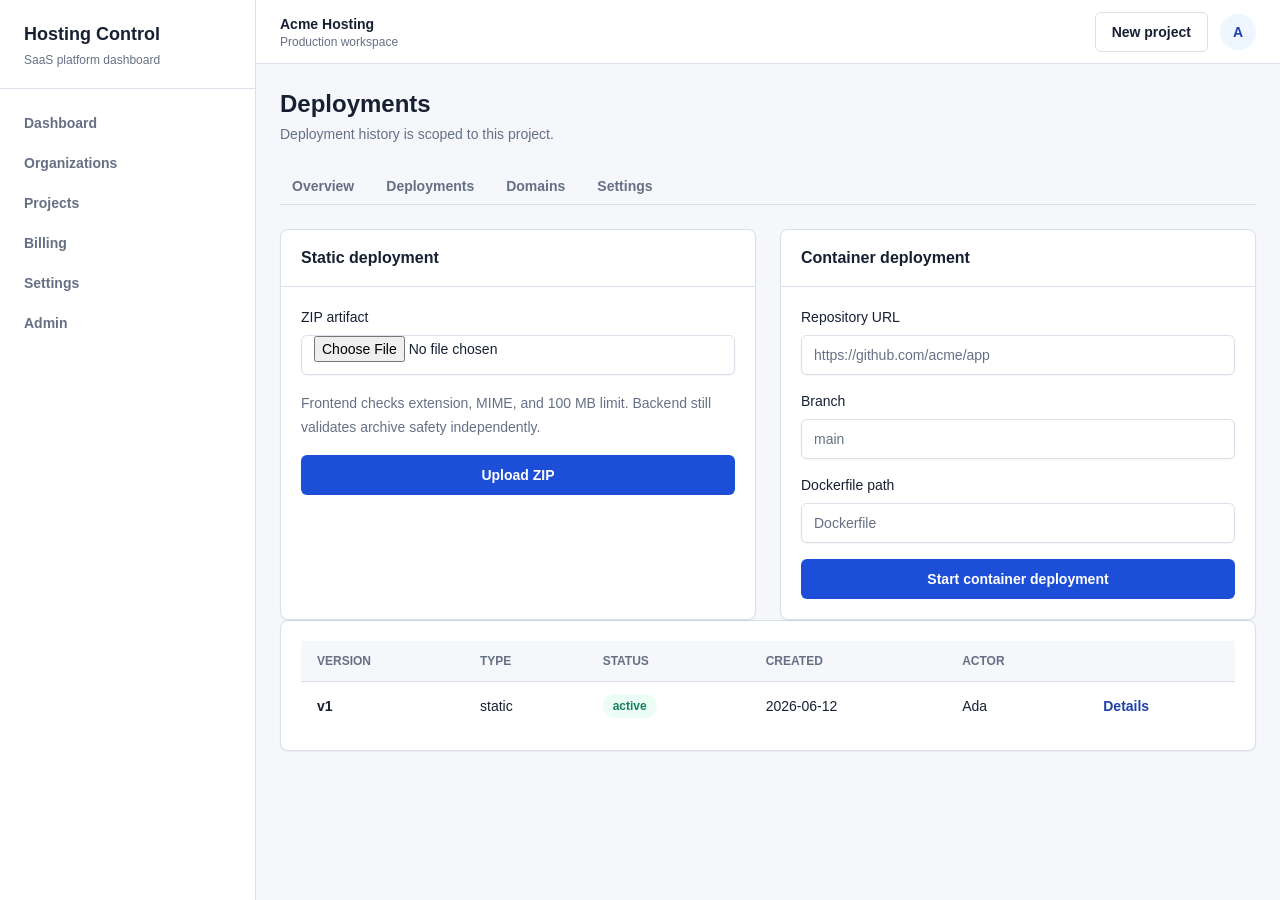
Test case: ProjectDeploymentsPage › requires a file before static upload
Click the button "Upload ZIP": [518, 475] box [301,455,735,495]
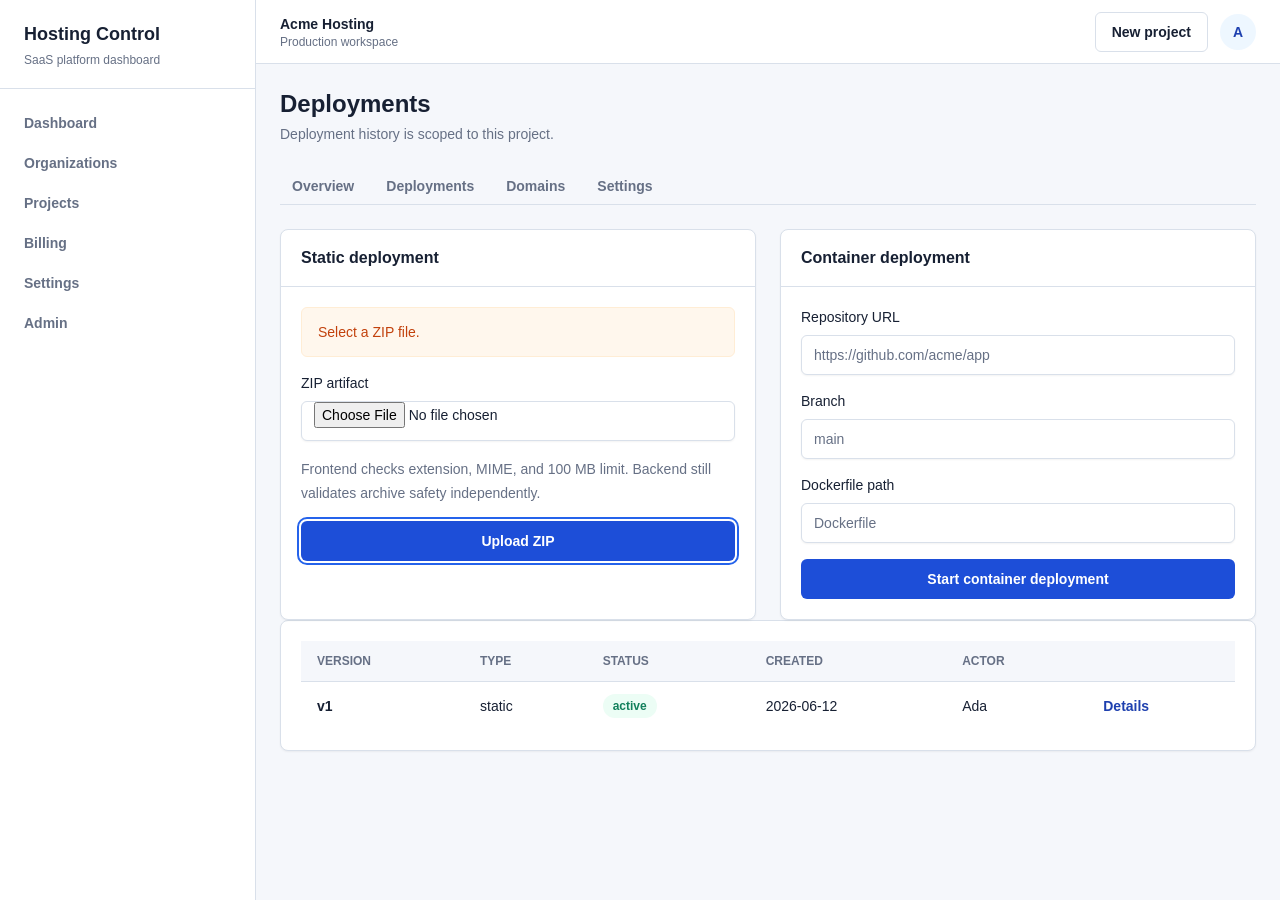
Expected: the text "Select a ZIP file." is shown, [301,307,735,357]
